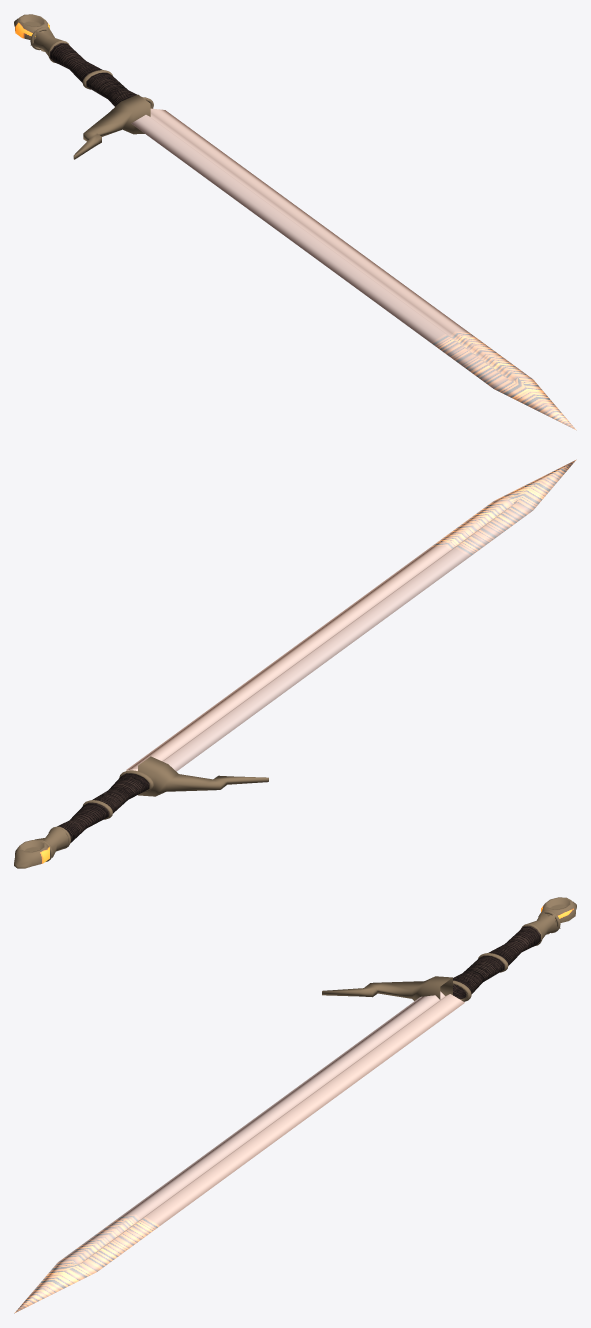
The model's file is sword.glb.
The picture shows the model from 3 angles, top to bottom: view 1: azimuth 30°, elevation 25°; view 2: azimuth 150°, elevation 25°; view 3: azimuth 330°, elevation 25°; orthographic projection.
Visible parts, largest first — view 1: Cube, Cylinder.001, Cylinder, Cylinder.006; view 2: Cube, Cylinder, Cylinder.001, Cylinder.006; view 3: Cube, Cylinder.001, Cylinder, Cylinder.006.
Part boxes in pixels (left/top/right/bottom): Cube: left=131, top=108, right=576, bottom=430; Cylinder.001: left=50, top=43, right=146, bottom=106; Cylinder: left=73, top=94, right=150, bottom=159; Cylinder.006: left=14, top=14, right=49, bottom=39; Cube: left=126, top=459, right=576, bottom=771; Cylinder: left=138, top=756, right=268, bottom=796; Cylinder.001: left=57, top=773, right=149, bottom=842; Cylinder.006: left=14, top=840, right=49, bottom=868; Cube: left=14, top=991, right=464, bottom=1313; Cylinder.001: left=450, top=926, right=540, bottom=998; Cylinder: left=322, top=976, right=452, bottom=1000; Cylinder.006: left=541, top=897, right=576, bottom=923.
Bounding box in the file's own units: 0.245 × 0.0598 × 2.03.
4 materials, 1 textured.
